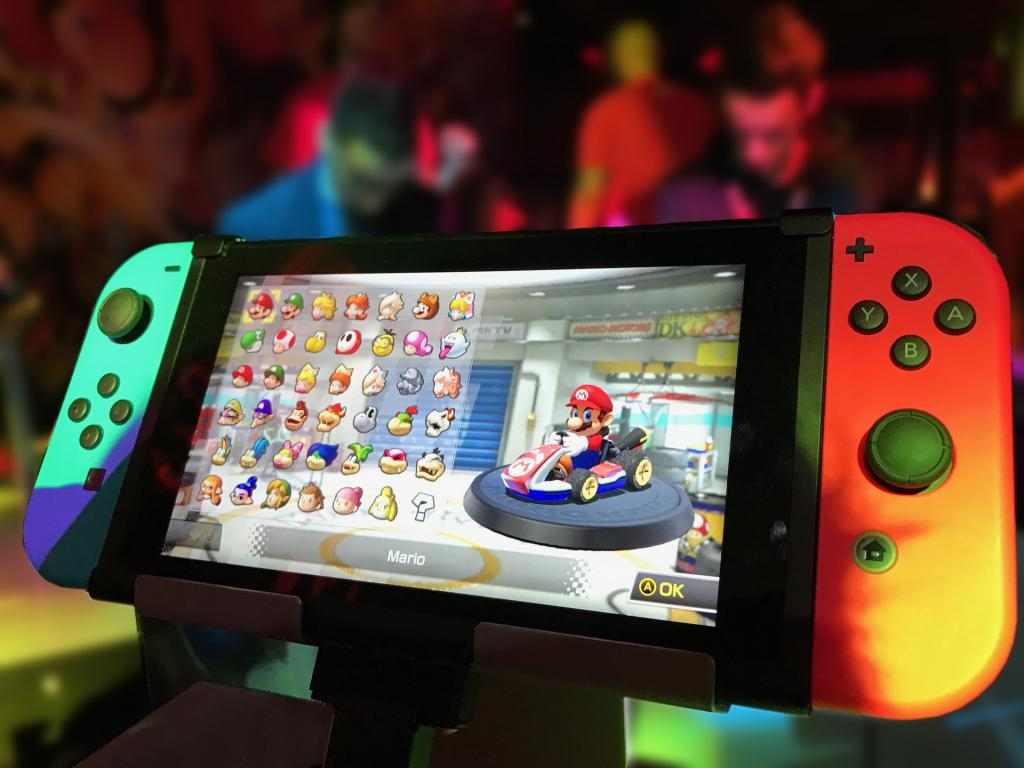NintendoSwitch: (16, 206, 1023, 735)
